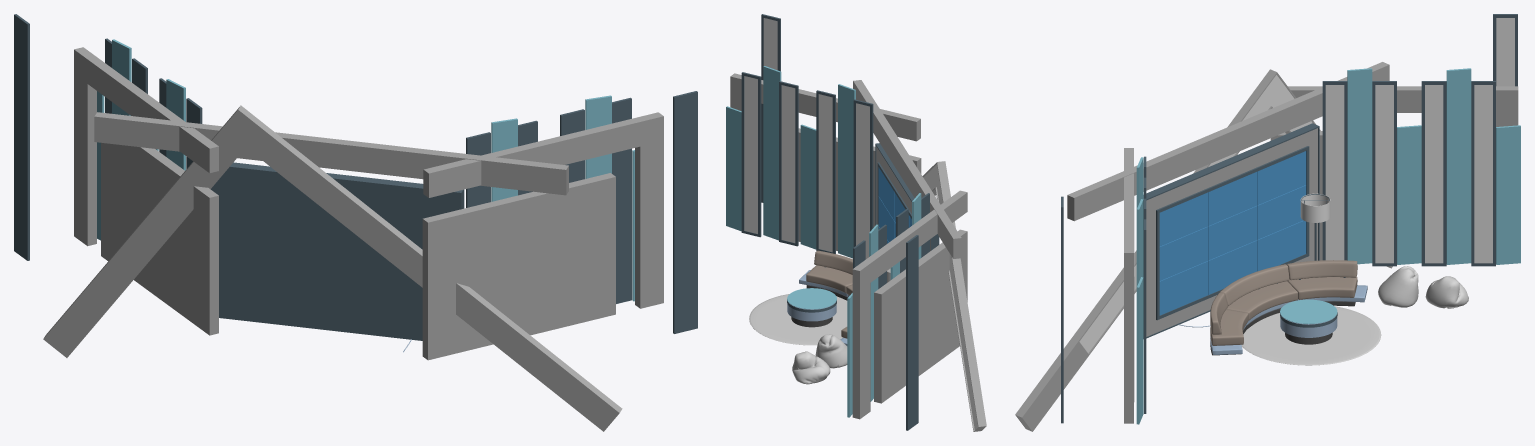
The model's file is zone_2.fbx.
3 views of the same model, side by side, from view 1: azimuth 30°, elevation 25°; view 2: azimuth 150°, elevation 25°; view 3: azimuth 270°, elevation 25° (orthographic). The views are drawn at different scales.
Visible parts, largest first — view 1: SM_wall_zone2, SM_wall2_zone2; view 2: SM_wall_zone2, SM_wall2_zone2, SM_carpet_zone2, SM_sofa_zone2, SM_table_zone2, SM_ecran_zone2, SM_pouf_2, SM_pouf_1; view 3: SM_wall_zone2, SM_ecran_zone2, SM_sofa_zone2, SM_wall2_zone2, SM_carpet_zone2, SM_table_zone2, SM_pouf_1, SM_pouf_2, SM_lamp_zone2.
Boxes of the visible parts, x1,y1,x2,y2 form: SM_wall_zone2: (14,14,697,360); SM_wall2_zone2: (43,105,622,431); SM_wall_zone2: (726,14,967,430); SM_wall2_zone2: (922,161,986,431); SM_carpet_zone2: (749,294,847,345); SM_sofa_zone2: (799,250,852,345); SM_table_zone2: (787,288,836,327); SM_ecran_zone2: (878,167,911,243); SM_pouf_2: (792,351,830,384); SM_pouf_1: (815,334,847,368); SM_wall_zone2: (1061,14,1520,424); SM_ecran_zone2: (1159,151,1306,315); SM_sofa_zone2: (1210,260,1367,355); SM_wall2_zone2: (1015,69,1392,431); SM_carpet_zone2: (1241,306,1381,365); SM_table_zone2: (1280,299,1337,344); SM_pouf_1: (1378,266,1418,307); SM_pouf_2: (1425,276,1468,308); SM_lamp_zone2: (1300,193,1330,260).
Size of the model in its own units: 1004 by 606 by 1021.
